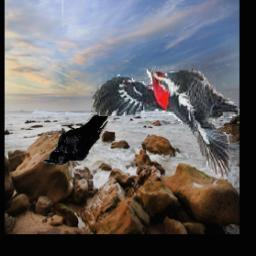Crow: (42, 113, 108, 165)
Woodpecker: (92, 64, 239, 178)
